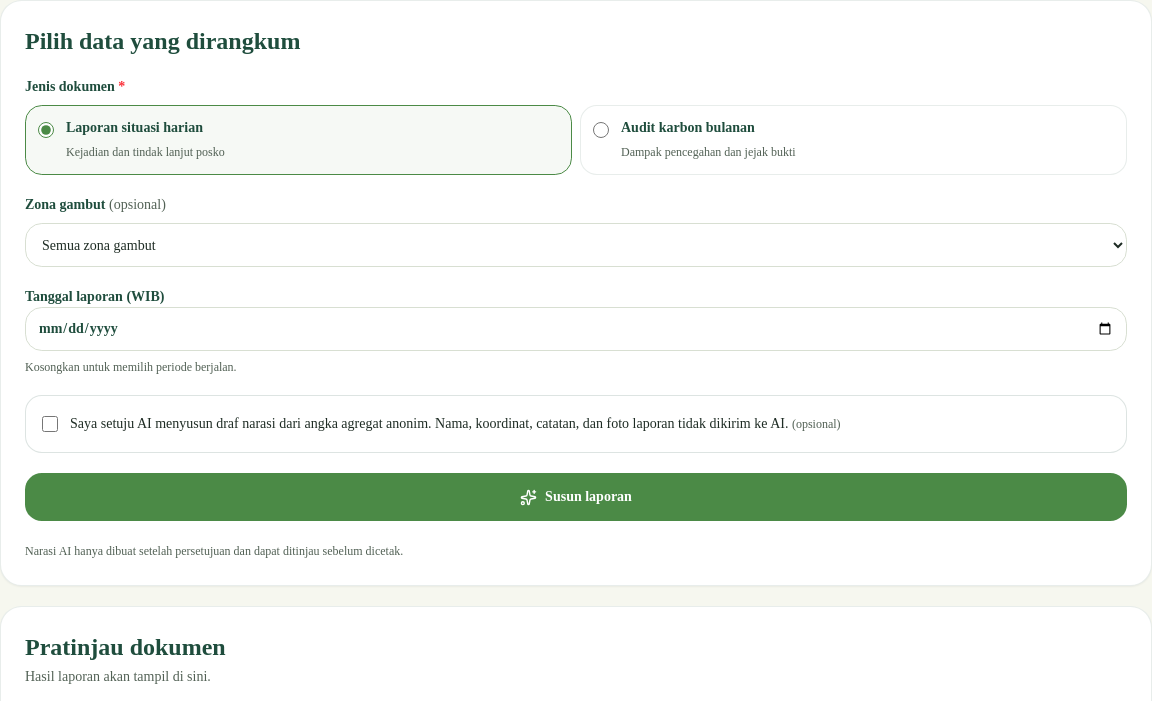
generator reports server errors and keeps the selected date after failure
Type "2026-11-01" into the date field labelled "Tanggal laporan". click: [576, 329]
box: [25,307,1127,351]
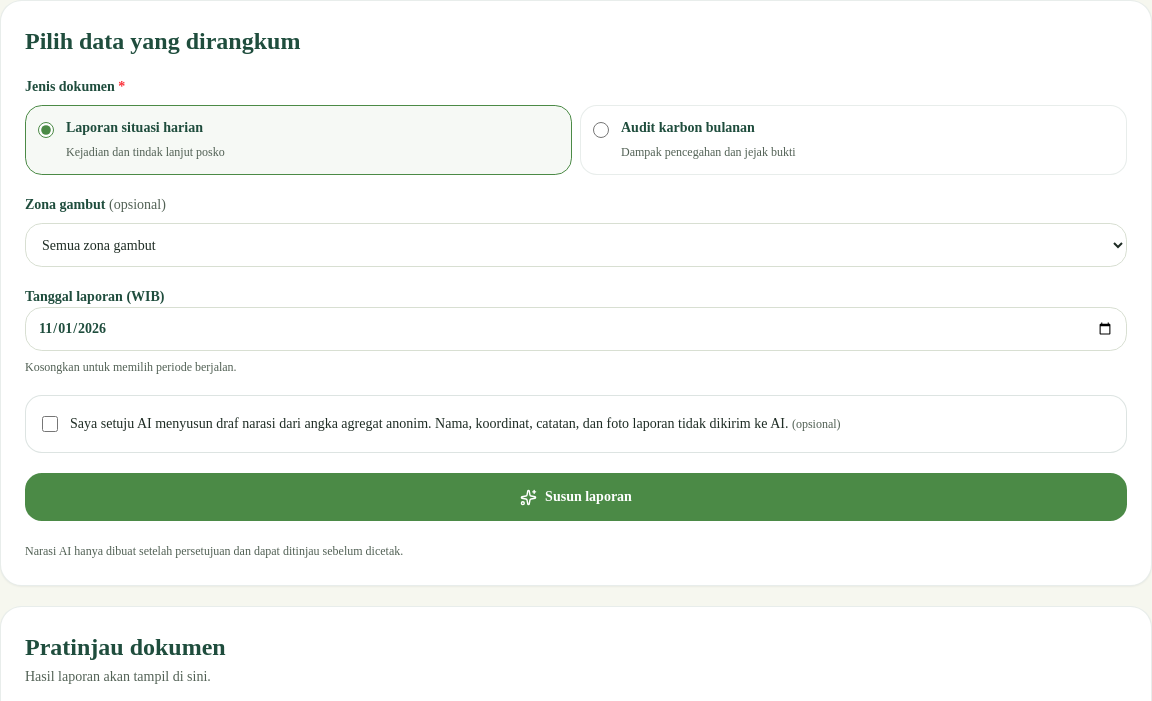
Click the button "Susun laporan". click: [576, 497]
box: [25,473,1127,521]
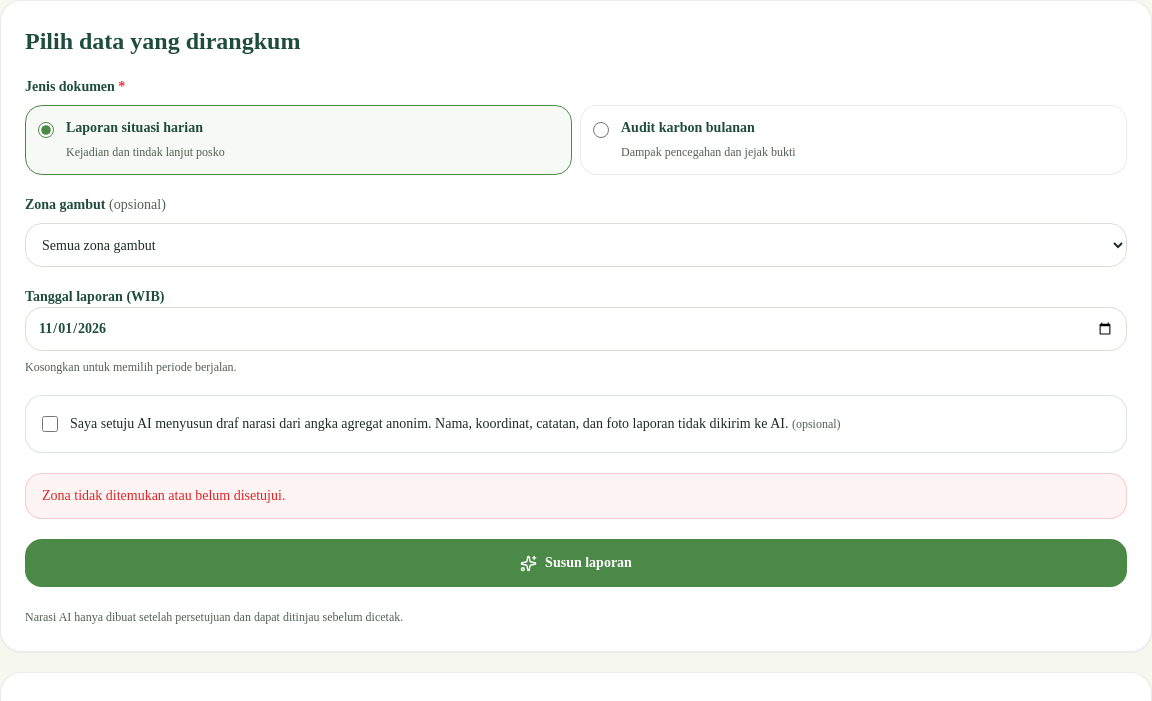
Check: the message reads "Zona tidak ditemukan atau belum disetujui.", box [42,488,285,503]
